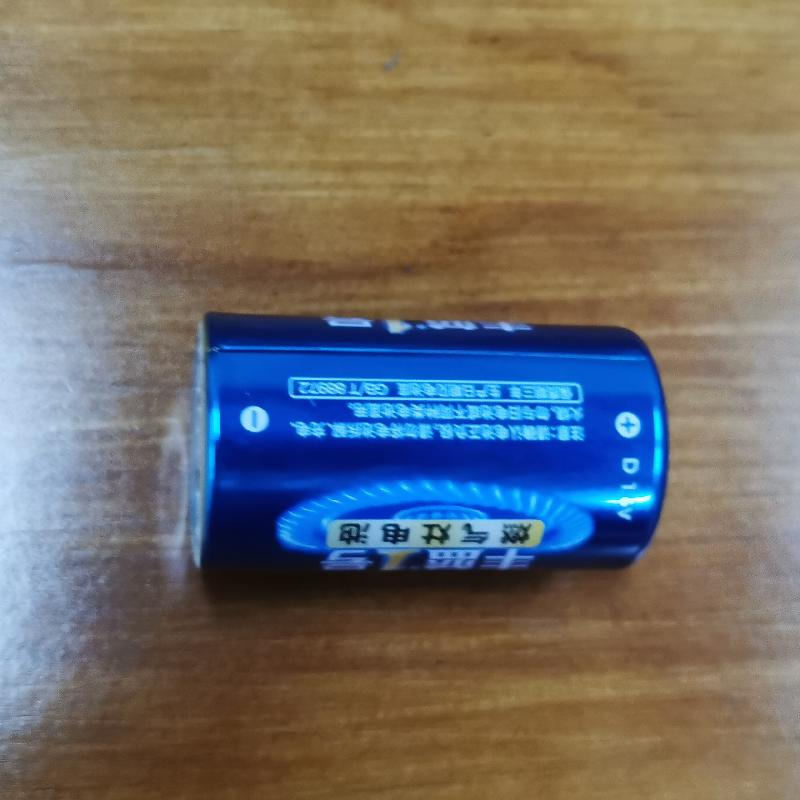battery: (181, 307, 672, 581)
